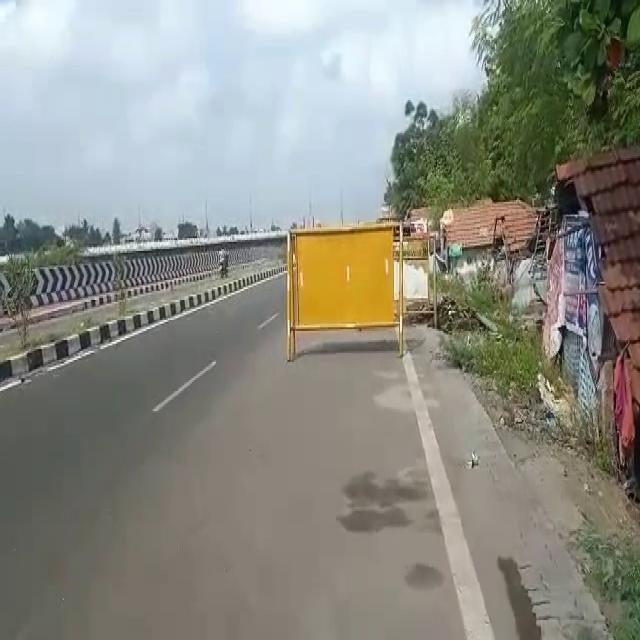fallen_object: (275, 217, 422, 375)
